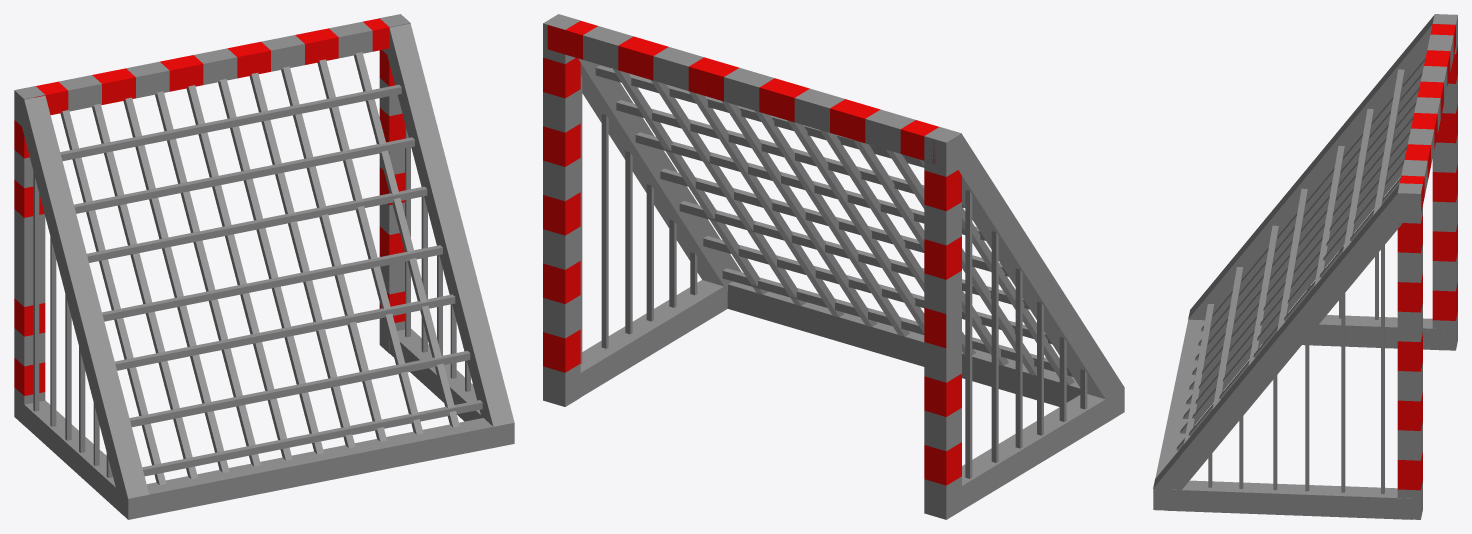
File: Soccer goal.fbx
The picture shows the model from 3 angles, left to right: view 1: azimuth 30°, elevation 25°; view 2: azimuth 150°, elevation 25°; view 3: azimuth 270°, elevation 25°; orthographic projection. The views are drawn at different scales.
Parts seen in each view (by area): view 1: Box004, Box003, Box006, 02___Default (×7), _crayfishdiffuse (×5), Box038, Box035, Box033, Box032, Box036, Box034, Box031 (+19 smaller); view 2: 02___Default (×16), _crayfishdiffuse (×16), Box004, Box006, Box003, Box007, Box008, Box026, Box027, Box028, Box029, Box030 (+22 smaller); view 3: Box003, 02___Default (×13), _crayfishdiffuse (×13), Box007, Box004, Box008, Box006, Box028, Box027, Box026, Box025, Box024 (+15 smaller).
Part boxes in pixels (x1=…): Box004: x1=16, y1=95, x2=149, y2=503; Box003: x1=386, y1=23, x2=514, y2=426; Box006: x1=122, y1=418, x2=514, y2=519; 02___Default (×7): x1=14, y1=30, x2=372, y2=425; _crayfishdiffuse (×5): x1=36, y1=18, x2=389, y2=104; Box038: x1=60, y1=84, x2=401, y2=160; Box035: x1=74, y1=137, x2=414, y2=213; Box033: x1=102, y1=245, x2=442, y2=321; Box032: x1=129, y1=351, x2=470, y2=427; Box036: x1=87, y1=186, x2=427, y2=262; Box034: x1=115, y1=294, x2=455, y2=370; Box031: x1=142, y1=400, x2=482, y2=476; 02___Default (×16): x1=543, y1=28, x2=961, y2=519; _crayfishdiffuse (×16): x1=543, y1=21, x2=946, y2=485; Box004: x1=949, y1=134, x2=1124, y2=409; Box006: x1=727, y1=281, x2=1124, y2=417; Box003: x1=578, y1=58, x2=741, y2=291; Box007: x1=580, y1=280, x2=727, y2=396; Box008: x1=962, y1=394, x2=1115, y2=510; Box026: x1=754, y1=110, x2=909, y2=336; Box027: x1=721, y1=101, x2=877, y2=326; Box028: x1=688, y1=91, x2=844, y2=316; Box029: x1=651, y1=80, x2=806, y2=305; Box030: x1=613, y1=69, x2=768, y2=294; Box003: x1=1153, y1=184, x2=1415, y2=498; 02___Default (×13): x1=1397, y1=15, x2=1457, y2=519; _crayfishdiffuse (×13): x1=1397, y1=25, x2=1457, y2=490; Box007: x1=1167, y1=480, x2=1411, y2=519; Box004: x1=1188, y1=15, x2=1434, y2=320; Box008: x1=1263, y1=315, x2=1446, y2=350; Box006: x1=1153, y1=319, x2=1204, y2=510; Box028: x1=1180, y1=160, x2=1404, y2=433; Box027: x1=1183, y1=146, x2=1407, y2=418; Box026: x1=1186, y1=131, x2=1410, y2=404; Box025: x1=1189, y1=117, x2=1413, y2=389; Box024: x1=1192, y1=102, x2=1416, y2=374.
Size of the model in its own units: 672742 by 541017 by 458577.
